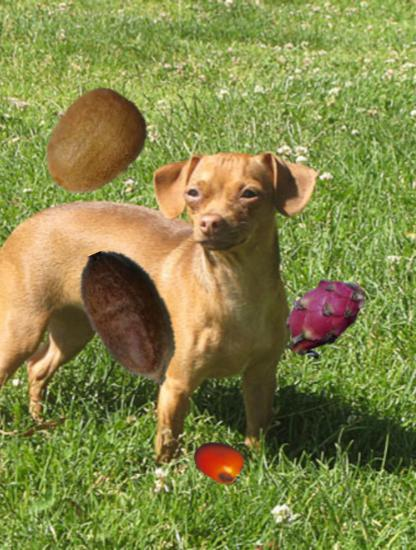Kaki: (193, 434, 246, 487)
Kiwi: (35, 85, 152, 202)
Nut: (56, 245, 205, 394)
Pitahaya: (273, 267, 366, 360)
